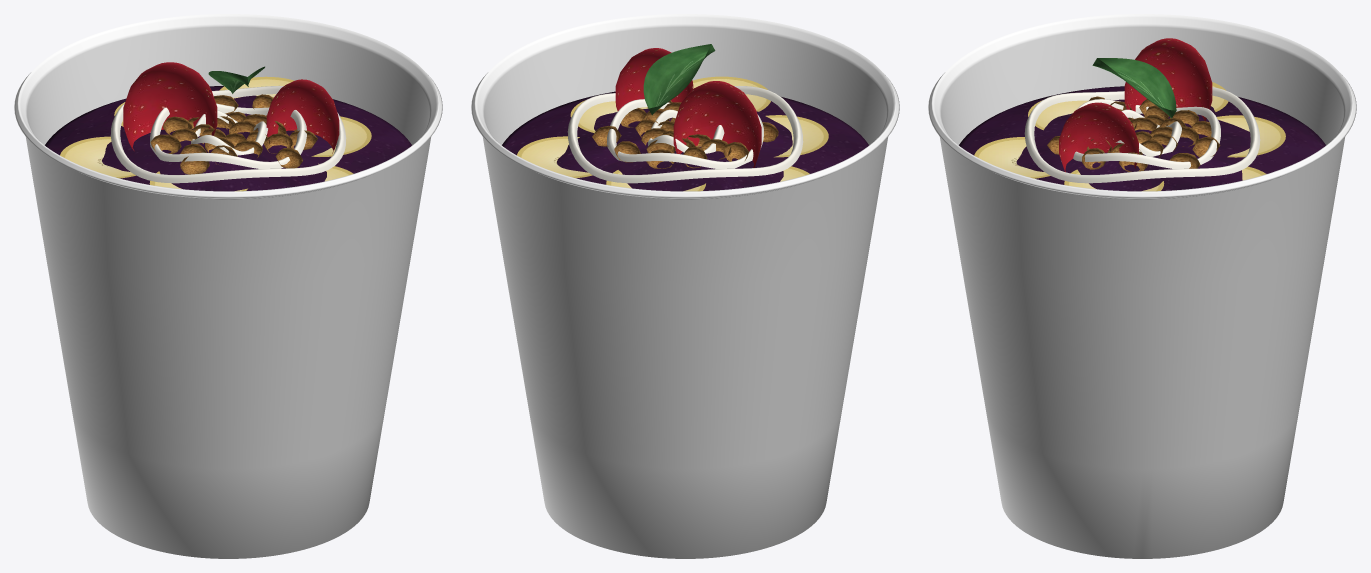
Rendered from acai.glb.
The picture shows the model from 3 angles, left to right: view 1: azimuth 30°, elevation 25°; view 2: azimuth 150°, elevation 25°; view 3: azimuth 270°, elevation 25°; orthographic projection.
Visible parts, largest first — view 1: copo, acompanhamentos, acai; view 2: copo, acompanhamentos, acai; view 3: copo, acompanhamentos, acai.
Part boxes in pixels (bbox=[...]): copo: bbox=[14, 14, 442, 558]; acompanhamentos: bbox=[60, 62, 371, 191]; acai: bbox=[45, 86, 411, 191]; copo: bbox=[471, 14, 899, 558]; acompanhamentos: bbox=[517, 44, 828, 191]; acai: bbox=[502, 91, 868, 191]; copo: bbox=[928, 14, 1356, 558]; acompanhamentos: bbox=[974, 38, 1285, 191]; acai: bbox=[959, 86, 1325, 191].
Bounding box in the file's own units: 0.0986 × 0.1117 × 0.0986.
Materials: 8 (6 with a texture image).
